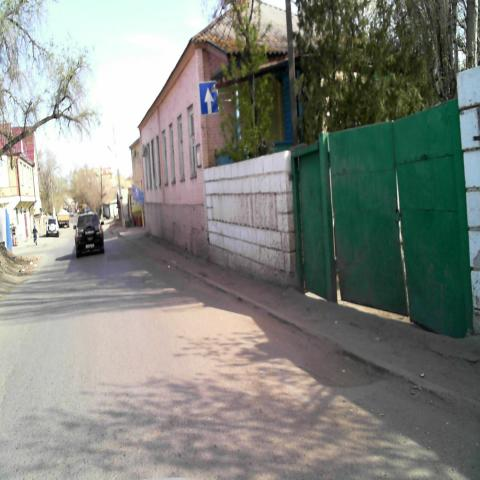5_5: (199, 80, 218, 115)
